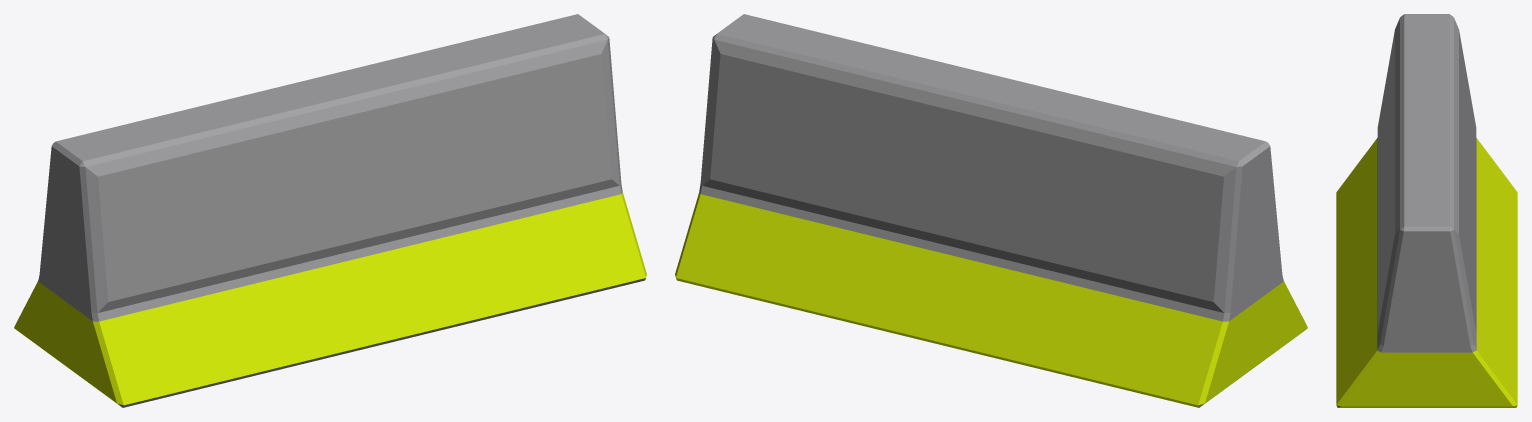
File: barrier white.fbx
3 views of the same model, side by side, from view 1: azimuth 30°, elevation 25°; view 2: azimuth 150°, elevation 25°; view 3: azimuth 270°, elevation 25° (orthographic). The views are drawn at different scales.
Parts seen in each view (by area): view 1: Cube; view 2: Cube; view 3: Cube.
Boxes of the visible parts, left/top/right/bottom form: Cube: left=14, top=14, right=646, bottom=407; Cube: left=675, top=14, right=1307, bottom=407; Cube: left=1336, top=14, right=1517, bottom=407.
Bounding box in the file's own units: 275 × 108 × 97.72.
